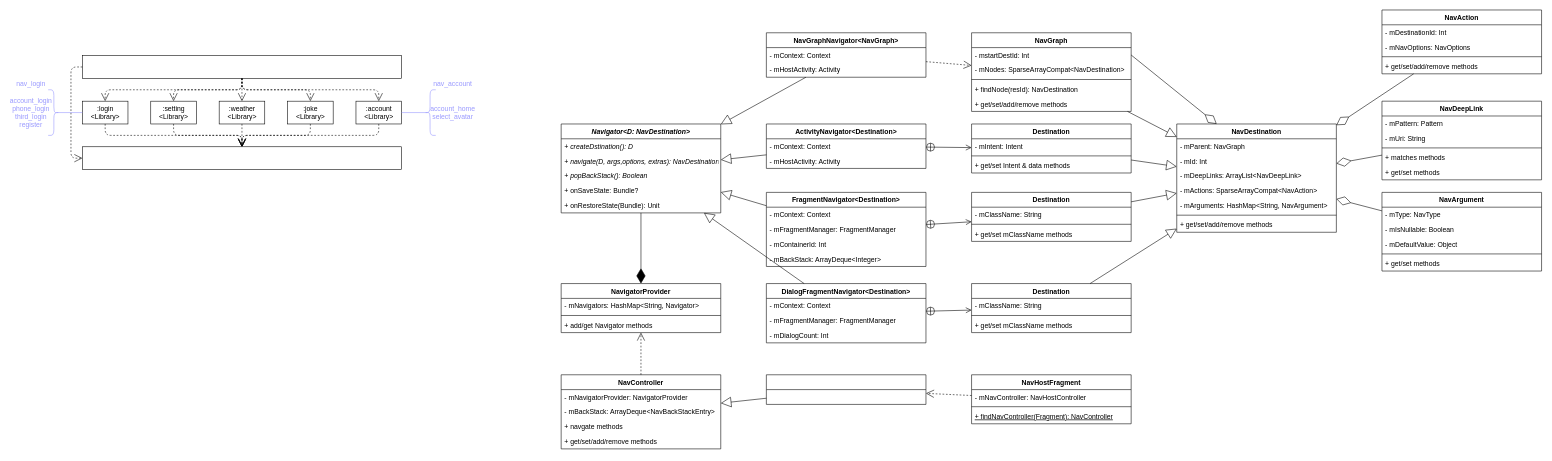
Image size: 1552x461. Some labels were removed from this diagram. The centre of each missing label's shape, as x and y in pixels:
":app <Application>" goes at [242,66].
":framework <Library>" goes at [242,158].
"NavHostController" goes at [846,389].
